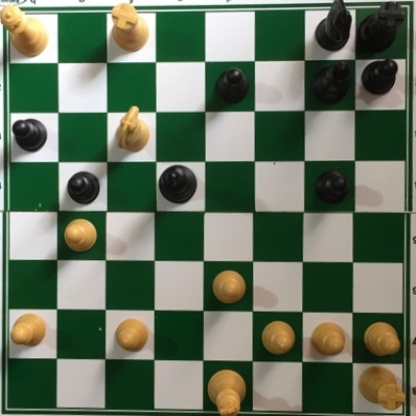black-bishop: (306, 57, 349, 104)
black-king: (157, 164, 199, 206)
black-knight: (314, 1, 354, 54)
black-pawn: (360, 56, 400, 95), (9, 117, 48, 153), (212, 66, 248, 105), (65, 169, 101, 205), (313, 169, 348, 205)
black-rook: (357, 1, 403, 55)
white-king: (205, 368, 247, 416)
white-knight: (112, 98, 150, 154)
white-pawn: (9, 306, 49, 349), (358, 320, 401, 359), (209, 269, 247, 306), (111, 316, 150, 352), (310, 321, 346, 358), (260, 320, 296, 355), (62, 218, 97, 253)
white-queen: (1, 1, 49, 57)
white-rook: (354, 362, 406, 411), (105, 2, 148, 55)
